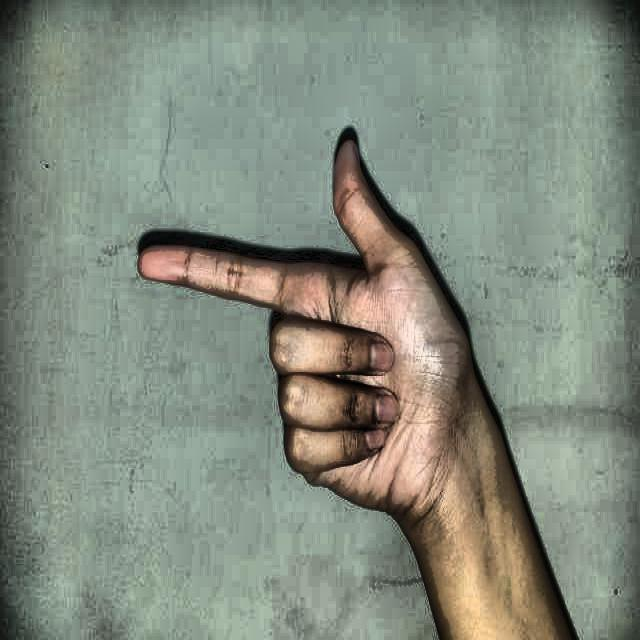Tho: (110, 97, 534, 530)
